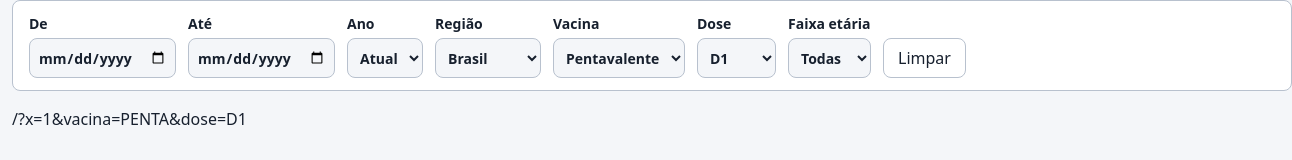
Scenario: FilterBar › writes changes to the URL, keeping unrelated params, and clears dose when the vaccine changes
Select "3 anos" in the dropdown labelled "Faixa etária" at x=830, y=58, box [788, 38, 871, 78]
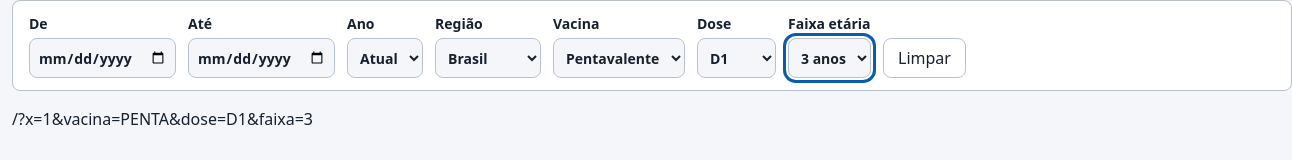
expect the text with test id "loc" shows "x=1": met, box [12, 108, 313, 130]
expect the text with test id "loc" shows "faixa=3": met, box [12, 108, 313, 130]
Select "BCG" in the dropdown labelled "Vacina" at x=619, y=58, box [553, 38, 685, 78]
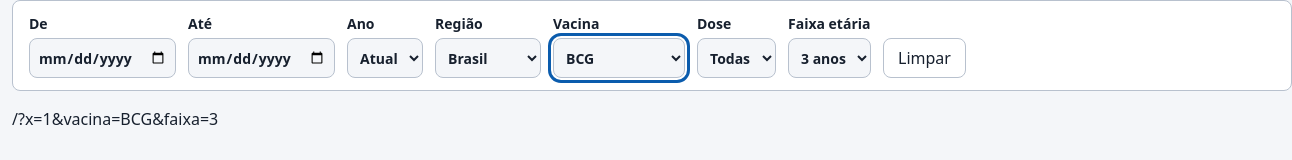
expect the text with test id "loc" shows "vacina=BCG": met, box [12, 108, 218, 130]
expect the text with test id "loc" no longer shows "dose=": met
Select "Todas" in the dropdown labelled "Faixa etária" at x=830, y=58, box [788, 38, 871, 78]
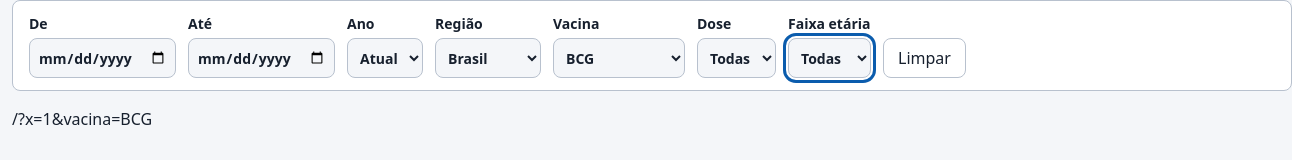
expect the text with test id "loc" no longer shows "faixa=": met
